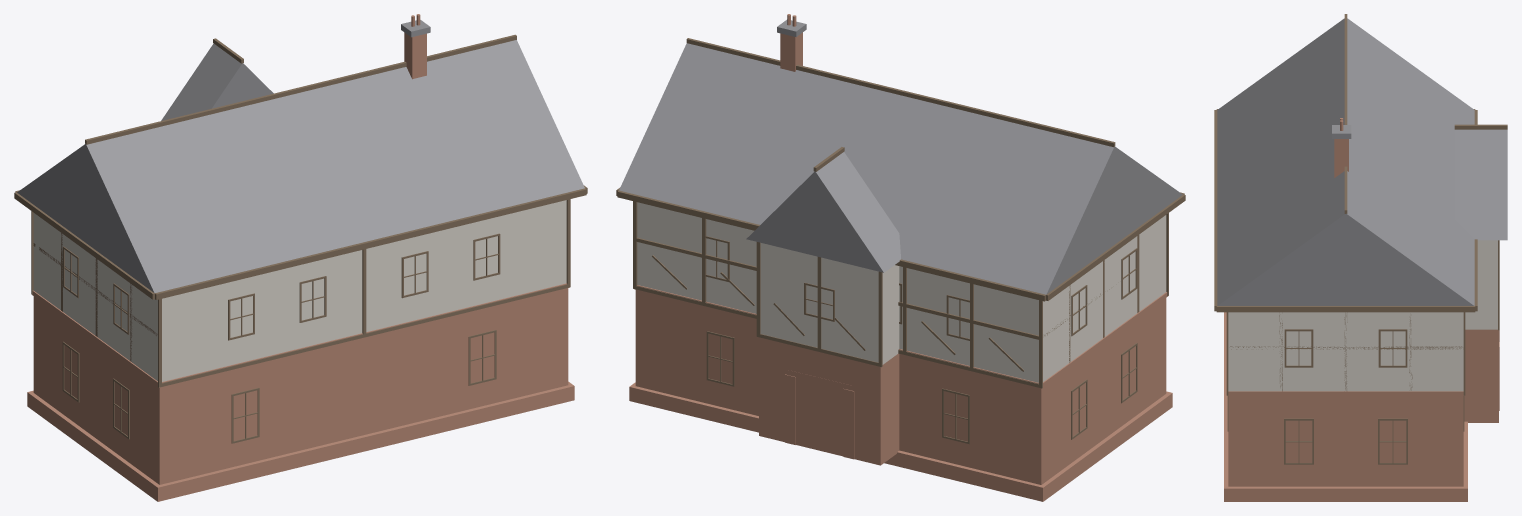
The model's file is cp_tennis_house.glb.
3 views of the same model, side by side, from view 1: azimuth 30°, elevation 25°; view 2: azimuth 150°, elevation 25°; view 3: azimuth 270°, elevation 25° (orthographic). The views are drawn at different scales.
Visible parts, largest first — view 1: TennisHouse; view 2: TennisHouse; view 3: TennisHouse.
Part boxes in pixels (box(x1,y1,x2,y2)): TennisHouse: box(14, 14, 587, 501); TennisHouse: box(616, 14, 1185, 501); TennisHouse: box(1214, 14, 1507, 501).
Size of the model in its own units: 15.96 by 12.71 by 9.98.
